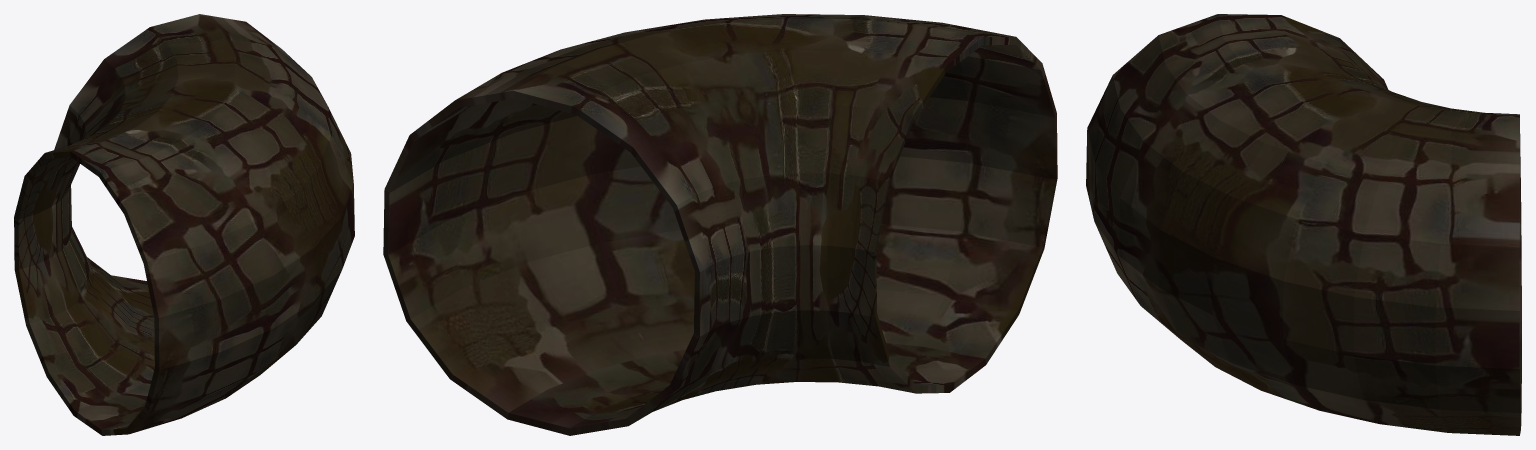
The model's file is Crawlway_Tube_Turn_ColliderMesh.fbx.
3 renders of one model, left to right at view 1: azimuth 30°, elevation 25°; view 2: azimuth 150°, elevation 25°; view 3: azimuth 270°, elevation 25°, orthographic. The views are drawn at different scales.
Visible parts, largest first — view 1: CrawlSpace_Pipe_Turn_ColliderMesh; view 2: CrawlSpace_Pipe_Turn_ColliderMesh; view 3: CrawlSpace_Pipe_Turn_ColliderMesh.
Boxes of the visible parts, left/top/right/bottom form: CrawlSpace_Pipe_Turn_ColliderMesh: left=14, top=14, right=354, bottom=435; CrawlSpace_Pipe_Turn_ColliderMesh: left=383, top=14, right=1057, bottom=435; CrawlSpace_Pipe_Turn_ColliderMesh: left=1086, top=14, right=1521, bottom=435.
Bounding box in the file's own units: 244 × 180 × 244.
1 material, 1 textured.
